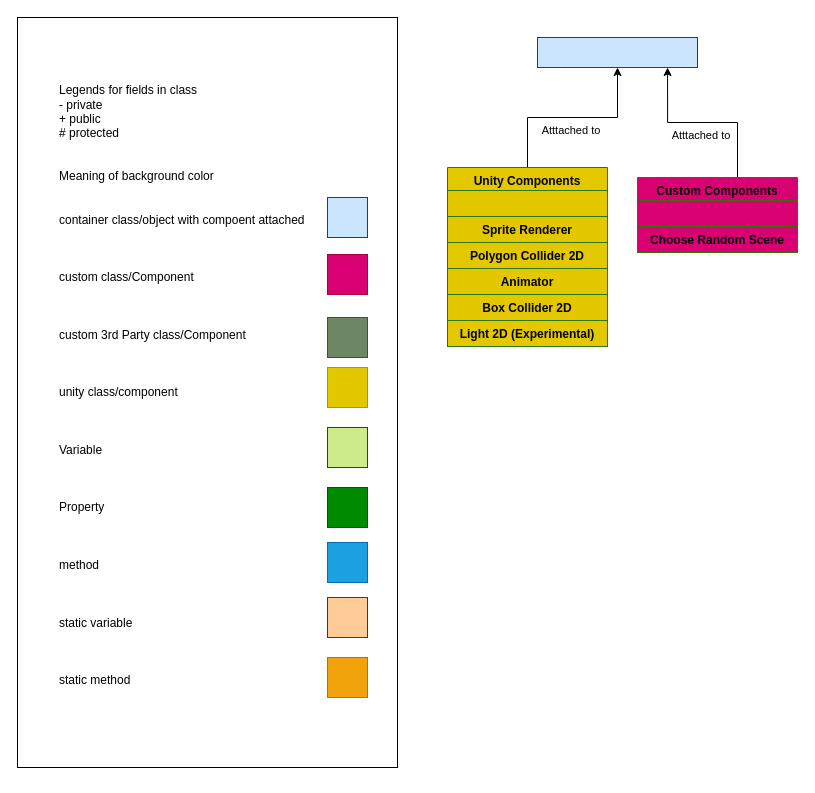
This 815x793 diagram has some shape labels left out. Each missing label, with the centre of its shape:
"Gate" goes at (x=617, y=52).
"Position Renderer Sorter" goes at (x=717, y=213).
"Transfrom" goes at (x=527, y=203).
